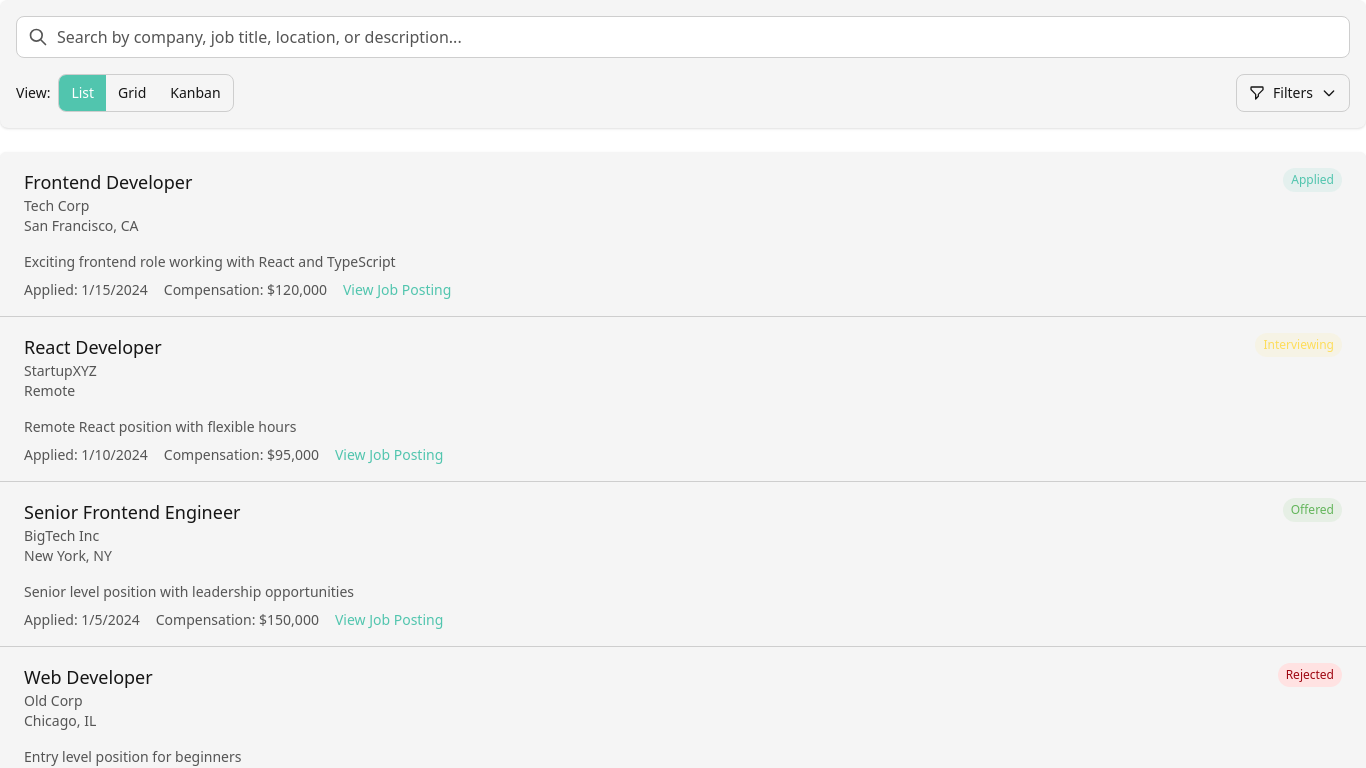
Test: ApplicationsView Component › Search Functionality › should filter applications by job title
The width and height of the screenshot is (1366, 768).
Type "React Developer" into the field with test id "search-input" at [683, 37], box [16,16,1350,58]
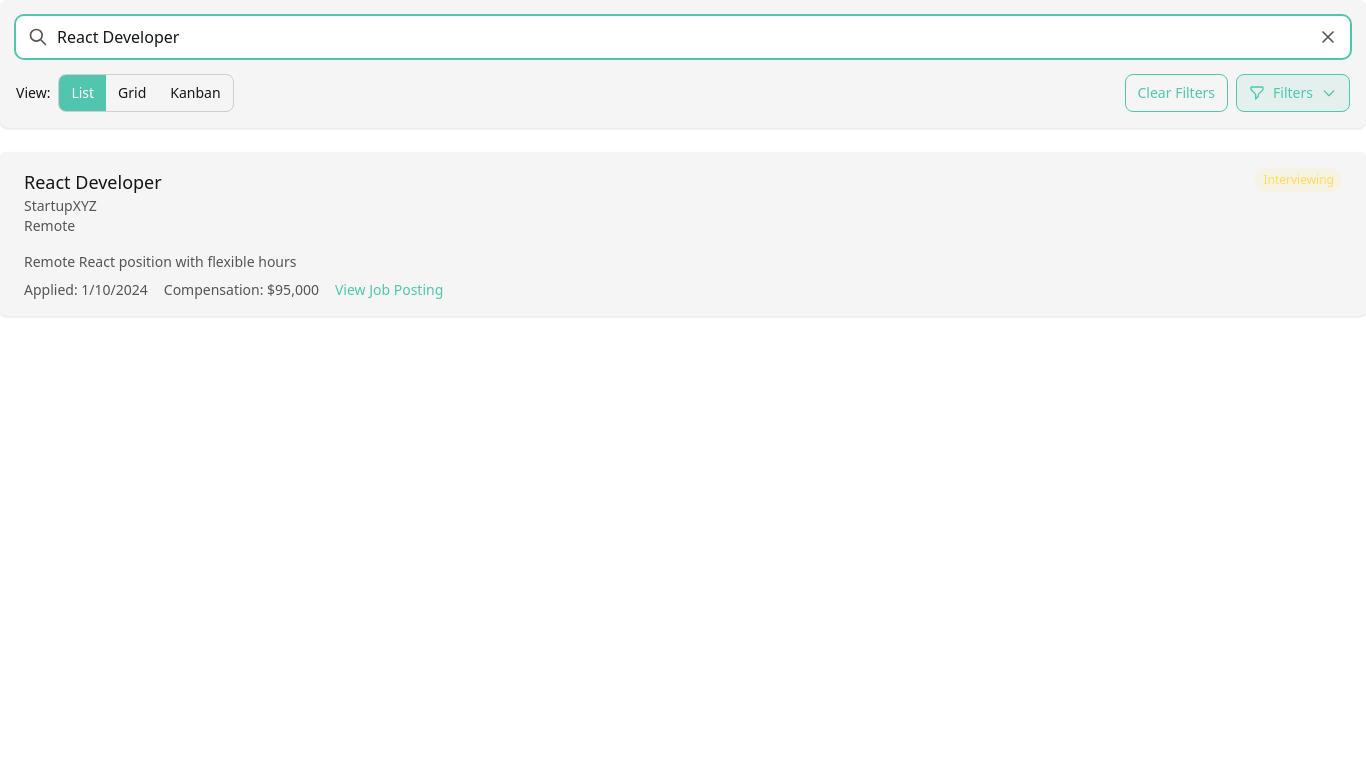
Check: the text "Tech Corp" is gone
Check: the text "BigTech Inc" is gone
Check: the text "Old Corp" is gone
